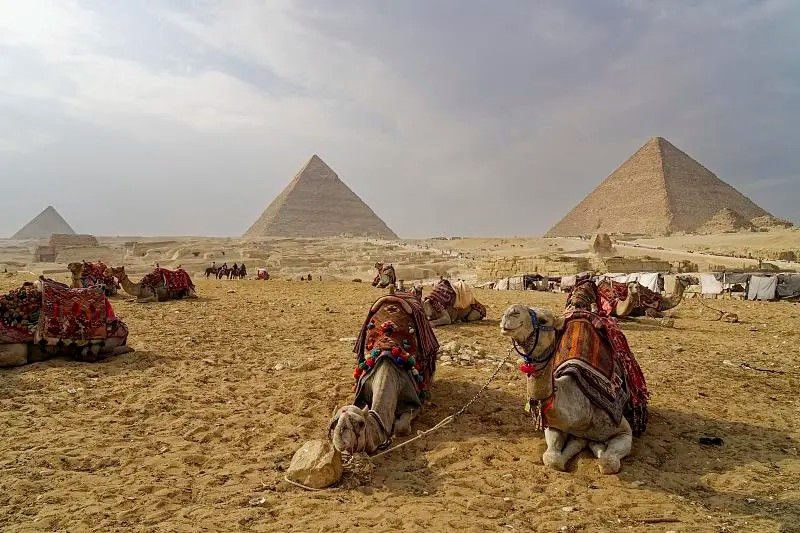Pyramid: (542, 137, 783, 237), (242, 154, 400, 240), (10, 206, 79, 237)
